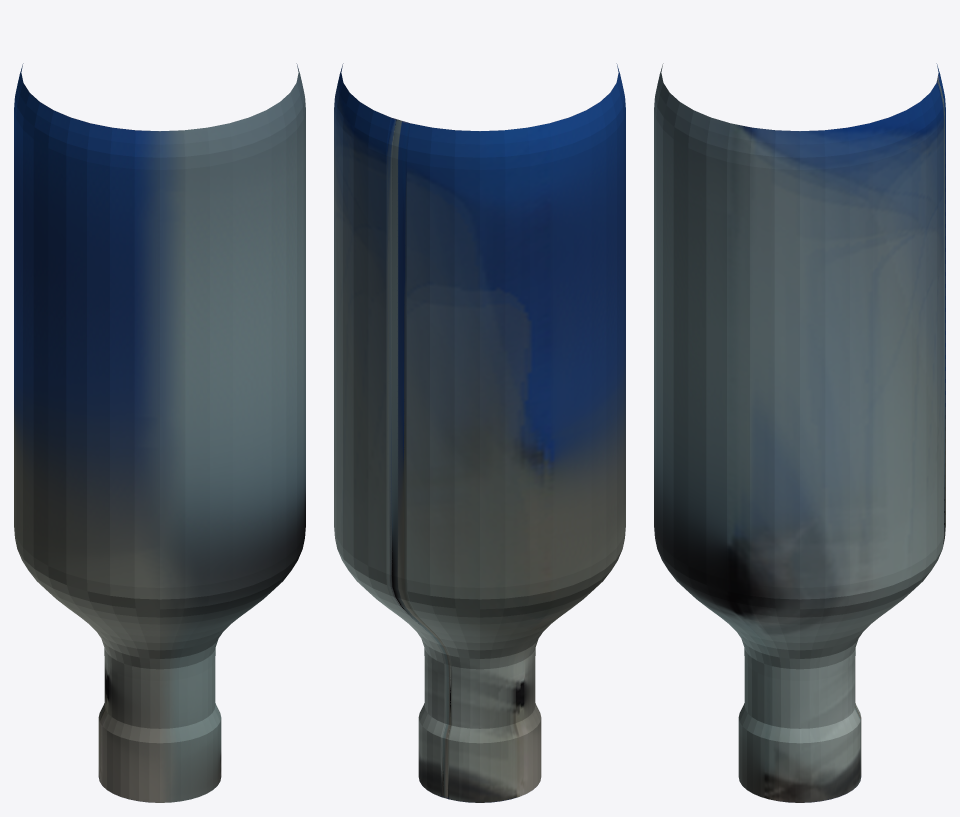
File: real_world_validation_textured.glb
3 renders of one model, left to right at view 1: azimuth 30°, elevation 25°; view 2: azimuth 150°, elevation 25°; view 3: azimuth 270°, elevation 25°, orthographic.
Parts seen in each view (by area): view 1: geometry_0; view 2: geometry_0; view 3: geometry_0.
Boxes of the visible parts, <box> form: geometry_0: <box>14,63,305,802</box>; geometry_0: <box>334,63,625,802</box>; geometry_0: <box>654,63,945,802</box>.
Size of the model in its own units: 2.59 by 6.9 by 2.59.
1 material, 1 textured.
